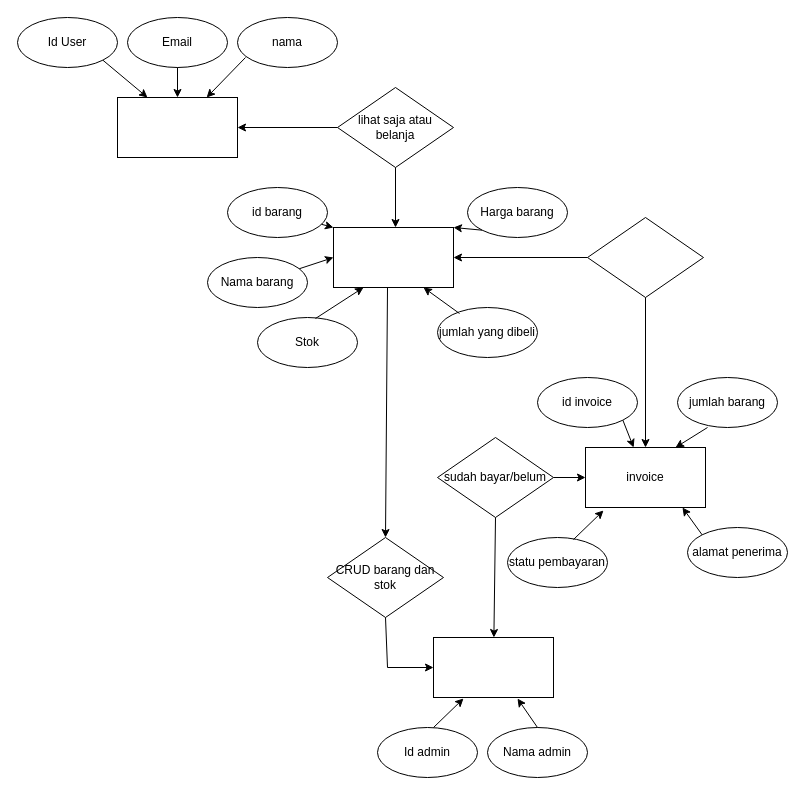
Some shapes in this 805 by 795 pixel diagram are drawn without their labels. Here are the shapes that lost their labels. From the top down, the centre of each, then its label:
the point at 177,127: USER
the point at 393,257: Barang
the point at 645,257: Barang dibeli atau tidak
the point at 493,667: Admin
